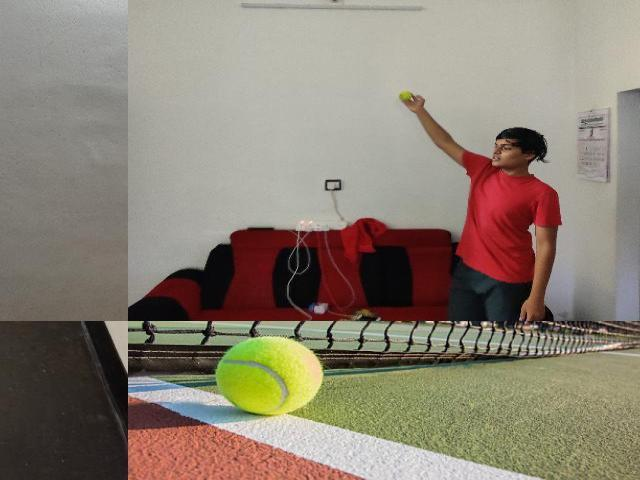tennis-ball: (215, 336, 323, 414), (398, 90, 412, 100)
